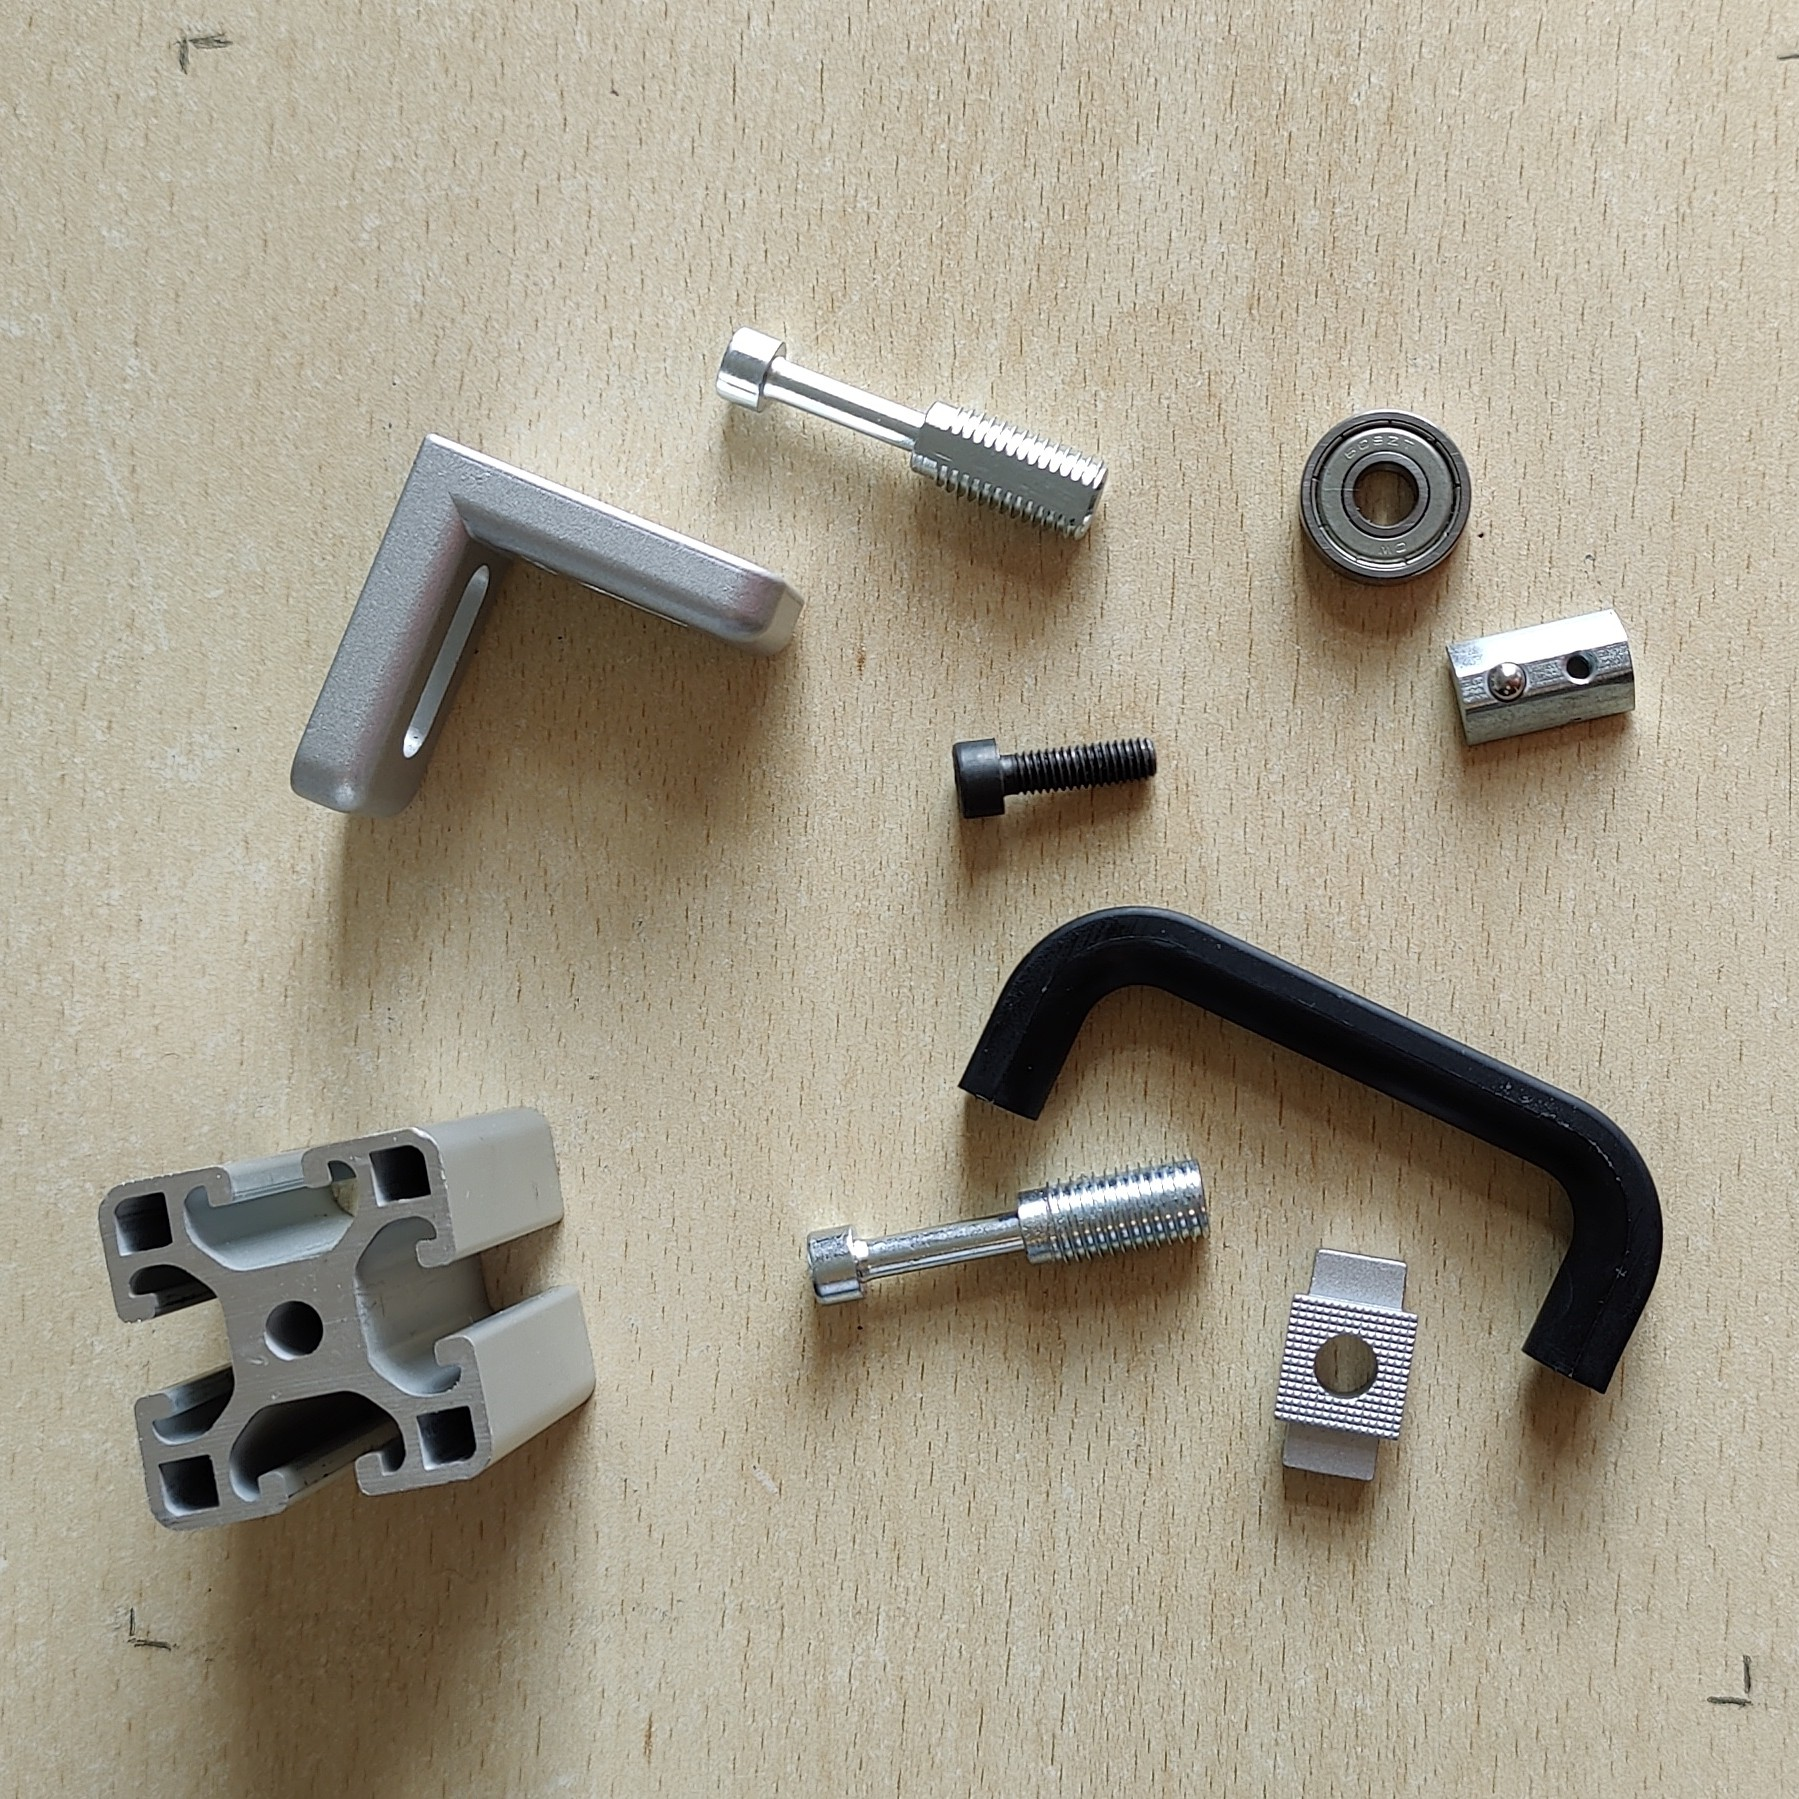Aluminium Extension: (96, 1104, 595, 1535)
Ball Bearing: (1297, 409, 1473, 586)
Multiwinkel: (288, 427, 807, 819)
Pull Handle: (956, 903, 1666, 1395)
Shoulder Socket Head Cap Screw: (713, 323, 1112, 545), (804, 1153, 1211, 1311)
Socket Head Cap Screw: (949, 730, 1161, 822)
T Nut Square: (1272, 1242, 1423, 1484)
T Spring Nut: (1442, 605, 1638, 748)
